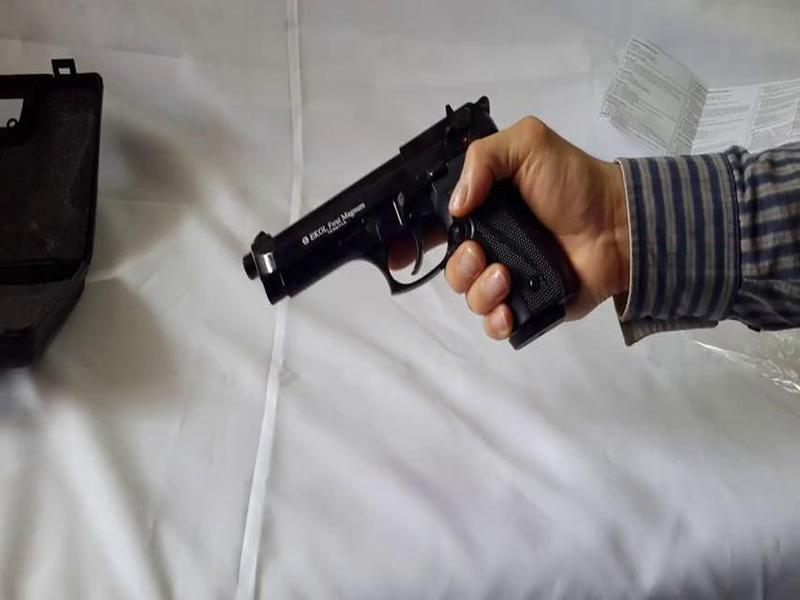Pistola: (218, 102, 560, 354)
